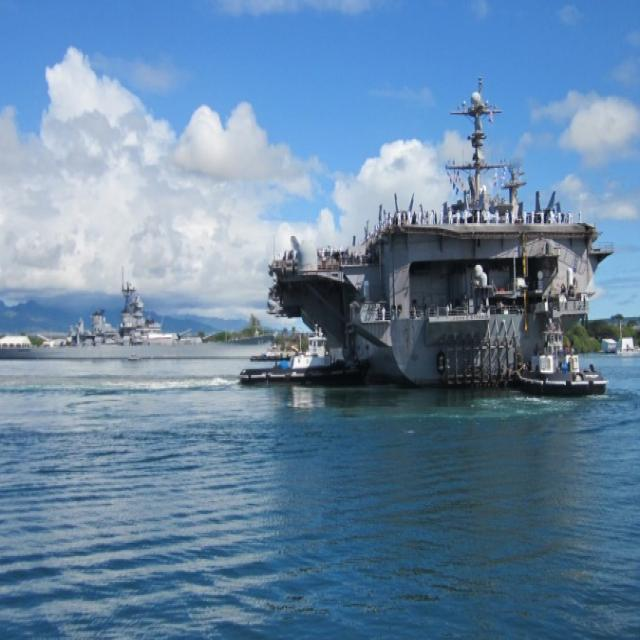Portanaves: (259, 65, 616, 395)
